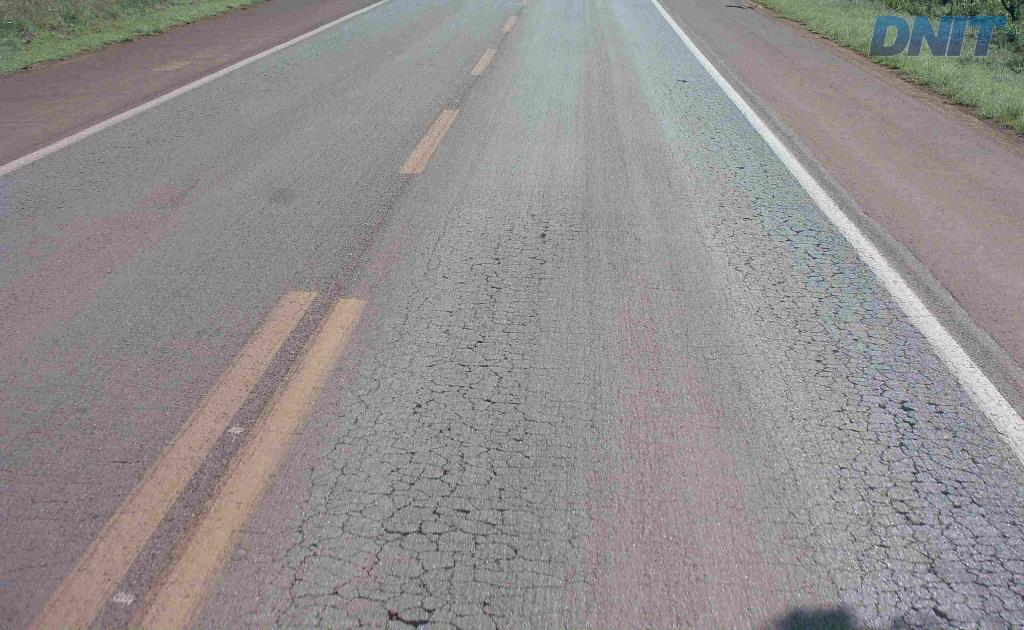crack: (940, 522, 1023, 603), (933, 479, 1023, 521), (380, 563, 435, 621)
